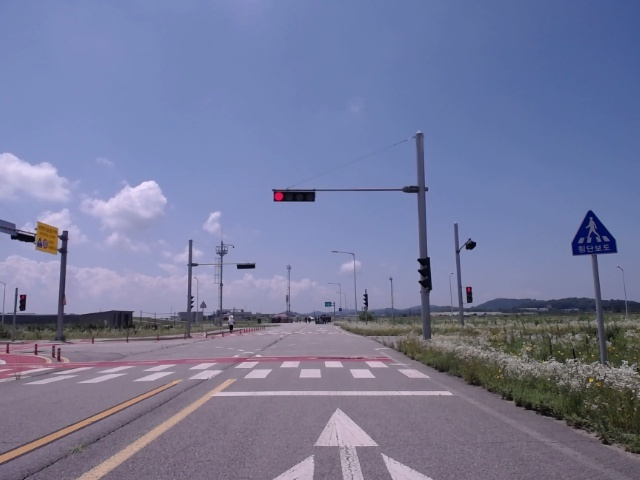red_4: (274, 191, 315, 201)
